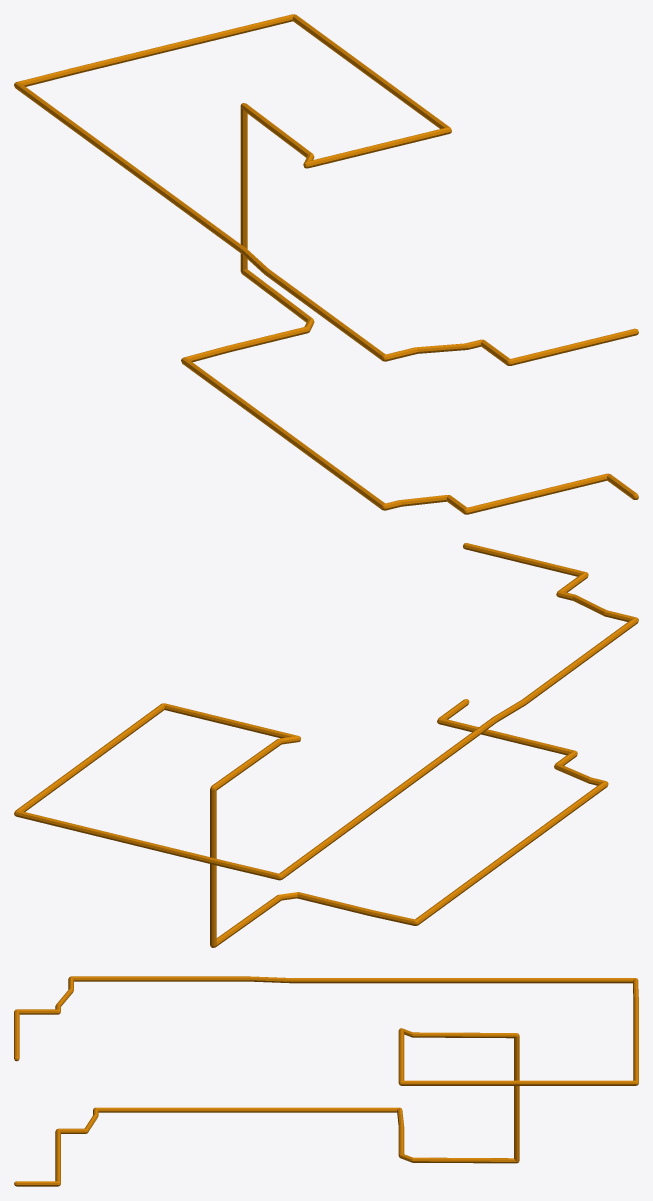
The picture shows the model from 3 angles, top to bottom: view 1: azimuth 30°, elevation 25°; view 2: azimuth 150°, elevation 25°; view 3: azimuth 270°, elevation 25°; orthographic projection. The views are drawn at different scales.
Bounding box in the file's own units: 912 × 520 × 2263.
